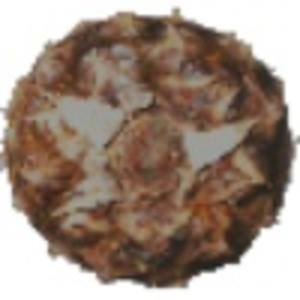abacaxi: (5, 9, 297, 275)
